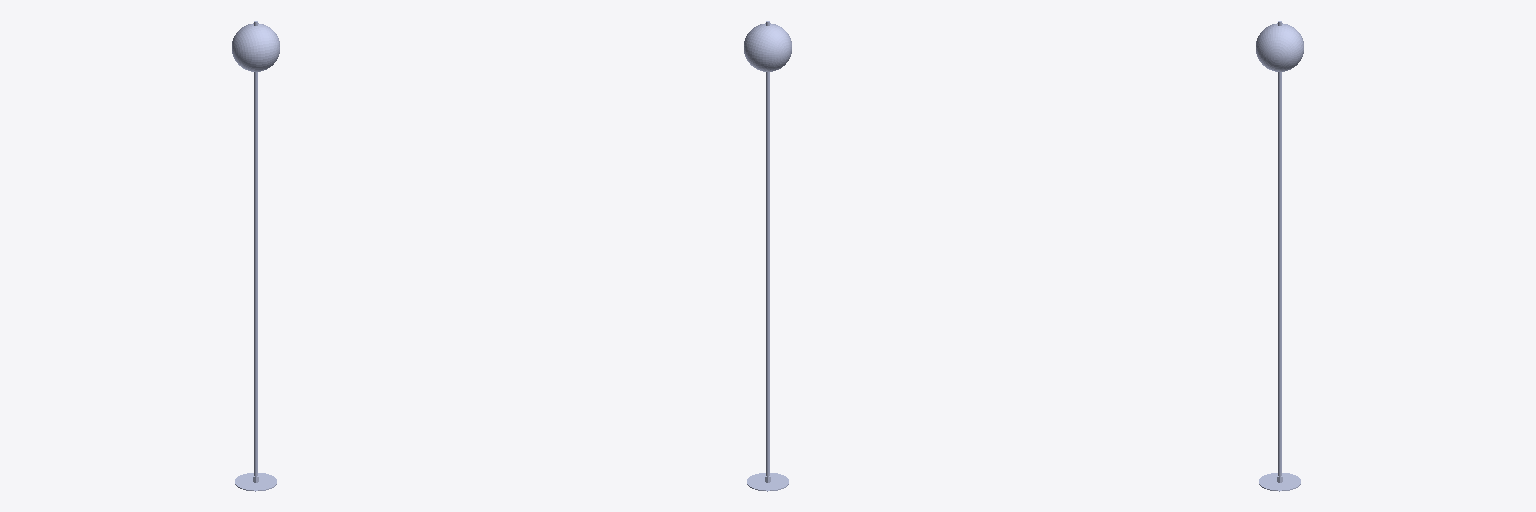
robot.urdf — niot_flower_green:
<robot
  name="niot_flower_green">
  <link
    name="base_link">
    <inertial>
      <origin
        xyz="0.064213 2.1312 0.17313"
        rpy="0 0 0" />
      <mass
        value="7.2406" />
      <inertia
        ixx="1.6342"
        ixy="-1.1134E-17"
        ixz="-2.6353E-34"
        iyy="5.6259E-33"
        iyz="4.0953E-17"
        izz="1.6342" />
    </inertial>
    <visual>
      <origin
        xyz="0 0 0"
        rpy="0 0 0" />
      <geometry>
        <mesh
          filename="package://niot_flower_green/meshes/base_link.STL" />
      </geometry>
      <material
        name="">
        <color
          rgba="0.79216 0.81961 0.93333 1" />
      </material>
    </visual>
    <collision>
      <origin
        xyz="0 0 0"
        rpy="0 0 0" />
      <geometry>
        <mesh
          filename="package://niot_flower_green/meshes/base_link.STL" />
      </geometry>
    </collision>
  </link>
  <gazebo reference="base_link">
    <material>Gazebo/Green</material>
  </gazebo>
  <gazebo>
    <static>true</static>
  </gazebo>
</robot>

--- What the picture shows (computed from the rendered views, not written in the file) ---
The picture shows the robot from 3 angles, left to right: view 1: azimuth 30°, elevation 25°; view 2: azimuth 150°, elevation 25°; view 3: azimuth 270°, elevation 25°; orthographic projection.
Model niot_flower_green with 1 links and 0 joints (none), rooted at base_link, posed all joints at 0.
Links seen in each view (by area): view 1: base_link; view 2: base_link; view 3: base_link.
Boxes of the visible links, left/top/right/bottom form: base_link: left=232, top=21, right=279, bottom=491; base_link: left=744, top=21, right=791, bottom=491; base_link: left=1256, top=21, right=1303, bottom=491.
Size in the robot's own frame: 0.2286 by 0.2282 by 2.38 metres.
Meshes: 1 distinct files referenced, 1 mesh visuals loaded (1 binary STL).
